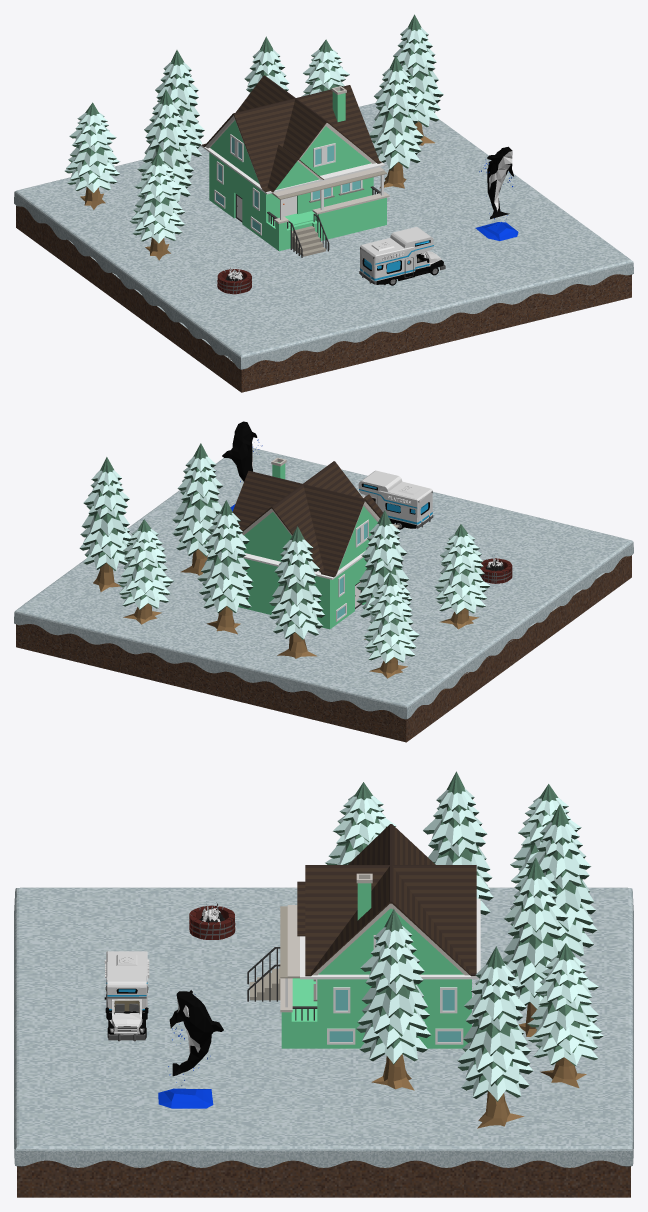
The picture shows the model from 3 angles, top to bottom: view 1: azimuth 30°, elevation 25°; view 2: azimuth 150°, elevation 25°; view 3: azimuth 270°, elevation 25°; orthographic projection. The views are drawn at different scales.
Parts seen in each view (by area): view 1: Cube.003, Cube.352, VEHICLES_CAMPER, ANIMAL_ORCA, OBJRANDOM_CAMPFIRE; view 2: Cube.003, Cube.352, VEHICLES_CAMPER, ANIMAL_ORCA, OBJRANDOM_CAMPFIRE; view 3: Cube.003, Cube.352, VEHICLES_CAMPER, ANIMAL_ORCA, OBJRANDOM_CAMPFIRE.
Boxes of the visible parts, bbox=[...] form: Cube.003: bbox=[14, 14, 633, 392]; Cube.352: bbox=[200, 75, 389, 257]; VEHICLES_CAMPER: bbox=[359, 227, 445, 285]; ANIMAL_ORCA: bbox=[475, 146, 518, 240]; OBJRANDOM_CAMPFIRE: bbox=[217, 267, 251, 294]; Cube.003: bbox=[14, 443, 633, 742]; Cube.352: bbox=[232, 457, 402, 629]; VEHICLES_CAMPER: bbox=[358, 470, 433, 529]; ANIMAL_ORCA: bbox=[222, 421, 262, 511]; OBJRANDOM_CAMPFIRE: bbox=[480, 558, 512, 583]; Cube.003: bbox=[14, 771, 633, 1197]; Cube.352: bbox=[247, 824, 480, 1048]; VEHICLES_CAMPER: bbox=[104, 951, 149, 1041]; ANIMAL_ORCA: bbox=[158, 990, 223, 1108]; OBJRANDOM_CAMPFIRE: bbox=[189, 902, 235, 939].
Size of the model in its own units: 4040 by 1793 by 4040.
Materials: 32 (3 with a texture image).
